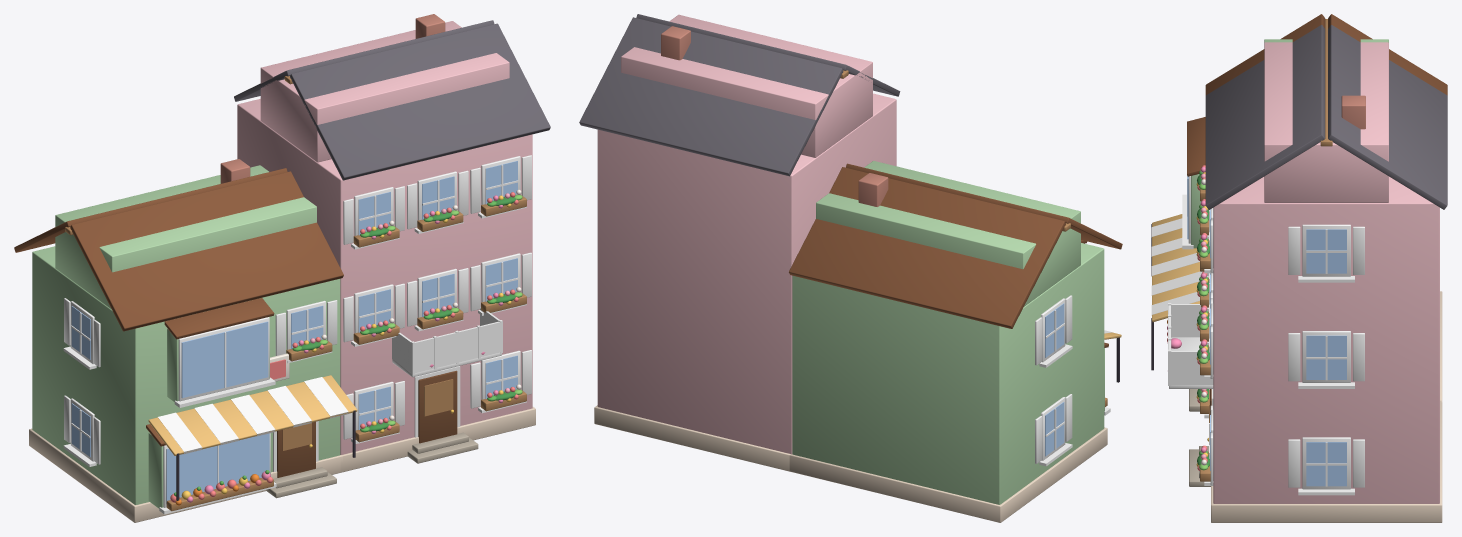
The model's file is terrace_short_a.glb.
3 views of the same model, side by side, from view 1: azimuth 30°, elevation 25°; view 2: azimuth 150°, elevation 25°; view 3: azimuth 270°, elevation 25° (orthographic). The views are drawn at different scales.
Parts seen in each view (by area): view 1: terrace_short_a; view 2: terrace_short_a; view 3: terrace_short_a.
Boxes of the visible parts, <box> form: terrace_short_a: <box>14,14,550,522</box>; terrace_short_a: <box>579,14,1122,522</box>; terrace_short_a: <box>1151,14,1447,522</box>.
Size of the model in its own units: 13.4 by 10.95 by 7.32.
